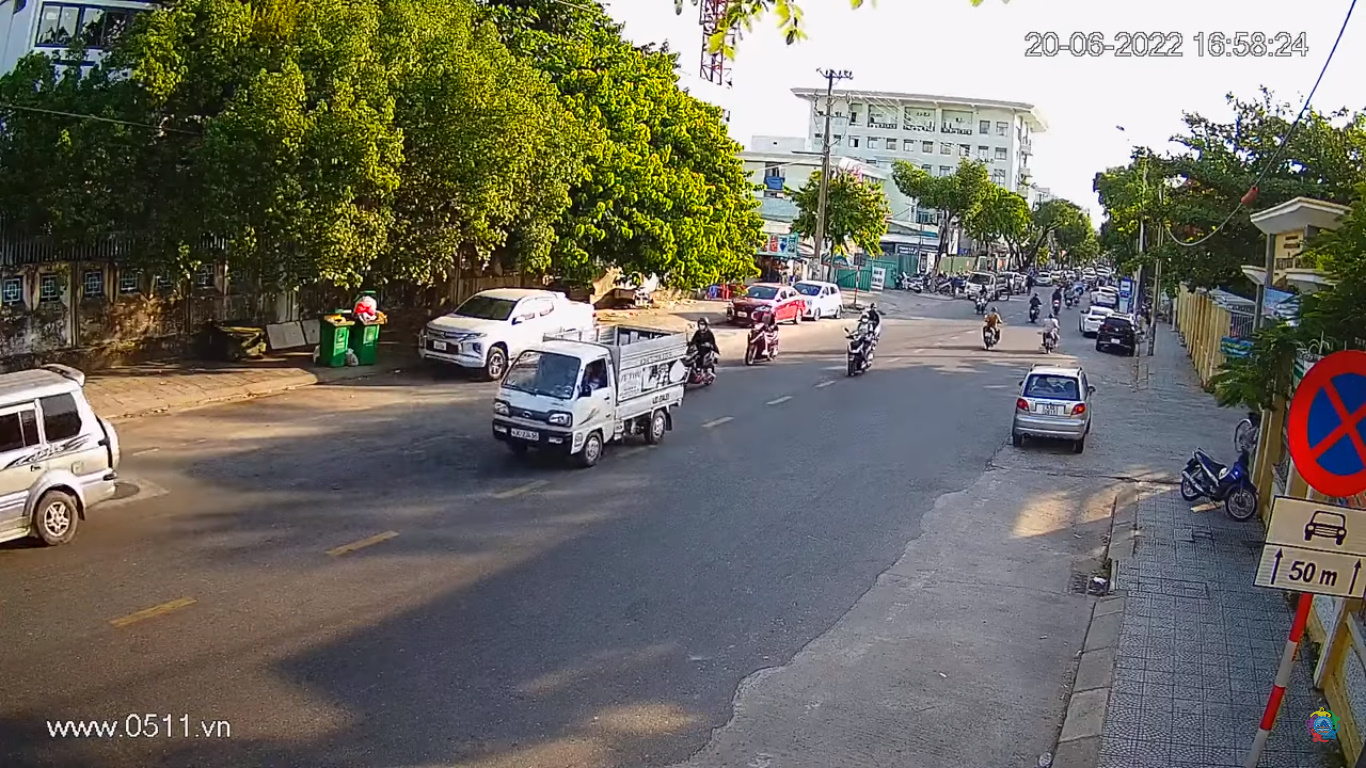truck: (492, 332, 688, 464)
